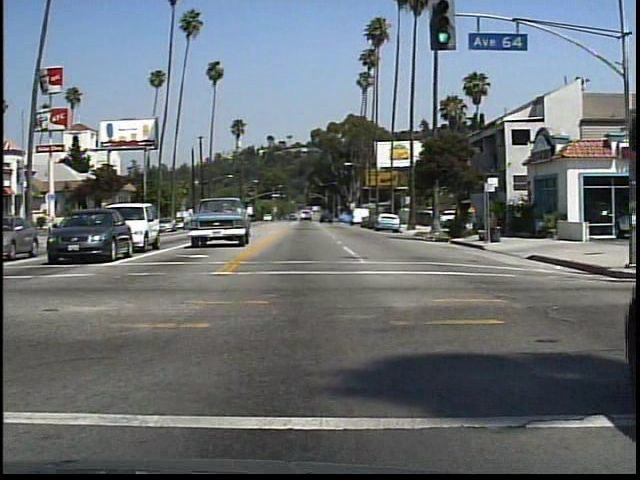person: (468, 201, 474, 240)
